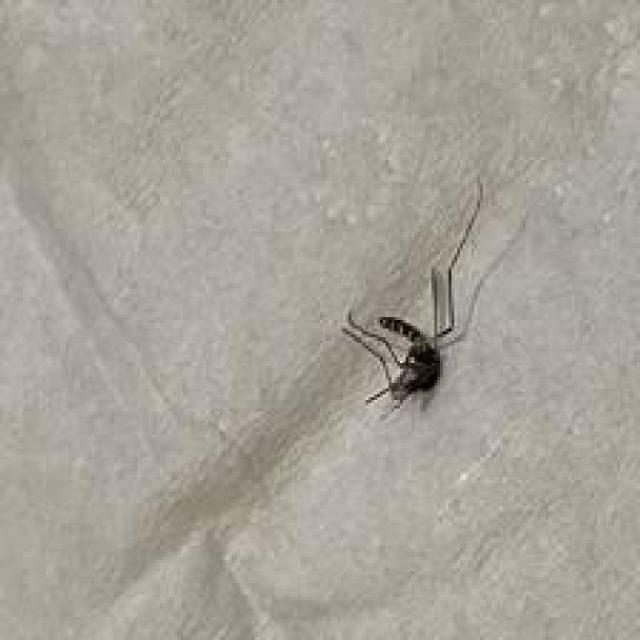Aedes albopictus: (339, 176, 527, 416)
